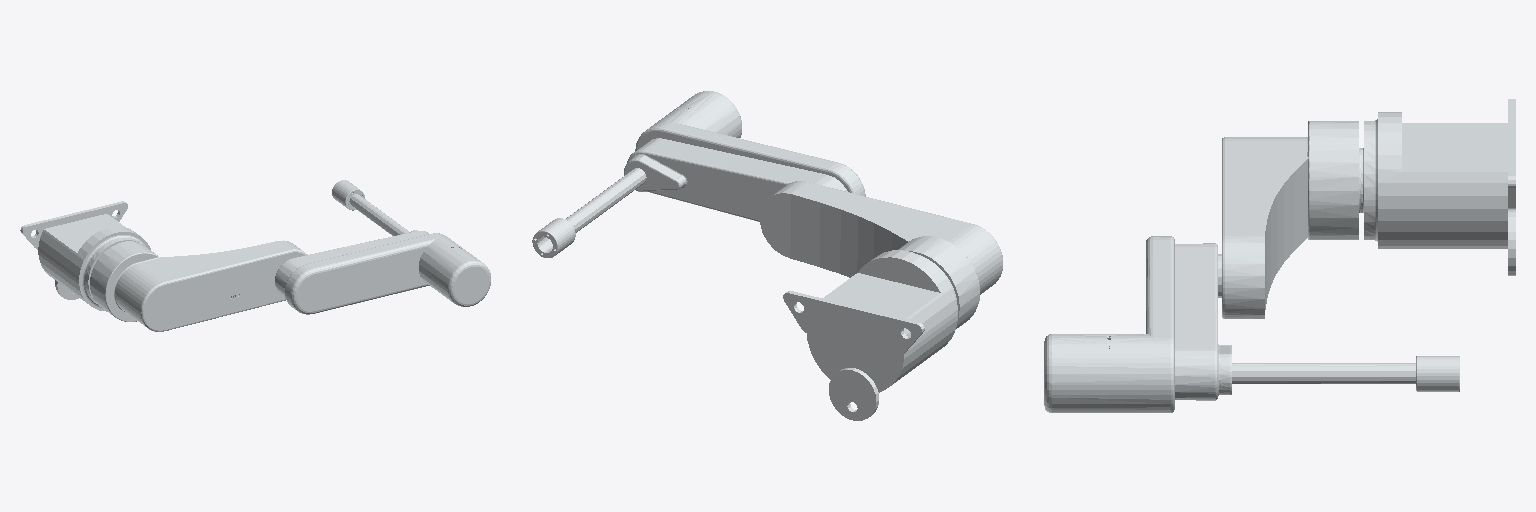
robot.urdf — scara:
<?xml version="1.0" encoding="utf-8"?>
<!-- This URDF was automatically created by SolidWorks to URDF Exporter! Originally created by [author] ([email redacted]) 
     Commit Version: 1.6.0-4-g7f85cfe  Build Version: 1.6.7995.38578
     For more information, please see http://wiki.ros.org/sw_urdf_exporter -->
<robot
  name="scara">
  <link
    name="base_link">
    <inertial>
      <origin
        xyz="-0.015685 0.061337 0.23402"
        rpy="0 0 0" />
      <mass
        value="13.521" />
      <inertia
        ixx="0.07366"
        ixy="1.7942E-19"
        ixz="-3.8597E-18"
        iyy="0.08182"
        iyz="-0.0035749"
        izz="0.056323" />
    </inertial>
    <visual>
      <origin
        xyz="0 0 0"
        rpy="0 0 0" />
      <geometry>
        <mesh
          filename="package://scara/meshes/base_link.STL" />
      </geometry>
      <material
        name="">
        <color
          rgba="0.89804 0.91765 0.92941 1" />
      </material>
    </visual>
    <collision>
      <origin
        xyz="0 0 0"
        rpy="0 0 0" />
      <geometry>
        <mesh
          filename="package://scara/meshes/base_link.STL" />
      </geometry>
    </collision>
  </link>
  <link
    name="Link1">
    <inertial>
      <origin
        xyz="0.094352 0.0010294 0.32084"
        rpy="0 0 0" />
      <mass
        value="15.936" />
      <inertia
        ixx="0.069528"
        ixy="-0.0021755"
        ixz="-0.059062"
        iyy="0.26893"
        iyz="-0.00064495"
        izz="0.24013" />
    </inertial>
    <visual>
      <origin
        xyz="0 0 0"
        rpy="0 0 0" />
      <geometry>
        <mesh
          filename="package://scara/meshes/Link1.STL" />
      </geometry>
      <material
        name="">
        <color
          rgba="0.89804 0.91765 0.92941 1" />
      </material>
    </visual>
    <collision>
      <origin
        xyz="0 0 0"
        rpy="0 0 0" />
      <geometry>
        <mesh
          filename="package://scara/meshes/Link1.STL" />
      </geometry>
    </collision>
  </link>
  <joint
    name="q1"
    type="revolute">
    <origin
      xyz="-0.015685 -0.13669 0.071833"
      rpy="1.5708 0 0" />
    <parent
      link="base_link" />
    <child
      link="Link1" />
    <axis
      xyz="0 0 -1" />
    <limit
      lower="0"
      upper="0"
      effort="0"
      velocity="0" />
  </joint>
  <link
    name="link2">
    <inertial>
      <origin
        xyz="-0.19696 -0.0034897 0.10314"
        rpy="0 0 0" />
      <mass
        value="13.373" />
      <inertia
        ixx="0.060294"
        ixy="1.5774E-06"
        ixz="0.049853"
        iyy="0.25254"
        iyz="-1.6193E-07"
        izz="0.21224" />
    </inertial>
    <visual>
      <origin
        xyz="0 0 0"
        rpy="0 0 0" />
      <geometry>
        <mesh
          filename="package://scara/meshes/link2.STL" />
      </geometry>
      <material
        name="">
        <color
          rgba="0.89804 0.91765 0.92941 1" />
      </material>
    </visual>
    <collision>
      <origin
        xyz="0 0 0"
        rpy="0 0 0" />
      <geometry>
        <mesh
          filename="package://scara/meshes/link2.STL" />
      </geometry>
    </collision>
  </link>
  <joint
    name="q2"
    type="continuous">
    <origin
      xyz="0.320000000000003 0 0.3815"
      rpy="0 0 -3.14126542474589" />
    <parent
      link="Link1" />
    <child
      link="link2" />
    <axis
      xyz="0 0 1" />
  </joint>
  <link
    name="shaft">
    <inertial>
      <origin
        xyz="0.00409819586236559 -0.00555472571082427 -0.13200694625884"
        rpy="0 0 0" />
      <mass
        value="0.806830721731541" />
      <inertia
        ixx="0.0127278032467474"
        ixy="0"
        ixz="-4.86959948382647E-19"
        iyy="0.0127278032467474"
        iyz="-1.47157379275733E-17"
        izz="0.00015917590160112" />
    </inertial>
    <visual>
      <origin
        xyz="0 0 0"
        rpy="0 0 0" />
      <geometry>
        <mesh
          filename="package://scara/meshes/shaft.STL" />
      </geometry>
      <material
        name="">
        <color
          rgba="0.898039215686275 0.917647058823529 0.929411764705882 1" />
      </material>
    </visual>
    <collision>
      <origin
        xyz="0 0 0"
        rpy="0 0 0" />
      <geometry>
        <mesh
          filename="package://scara/meshes/shaft.STL" />
      </geometry>
    </collision>
  </link>
  <joint
    name="end"
    type="continuous">
    <origin
      xyz="-0.324142630749243 -0.00899685084221317 0"
      rpy="0 0 1.8590523363971" />
    <parent
      link="link2" />
    <child
      link="shaft" />
    <axis
      xyz="0 0 1" />
  </joint>
</robot>

--- Facts derived from the render (not from the file) ---
3 views of the same robot in one strip: view 1: azimuth 30°, elevation 25°; view 2: azimuth 150°, elevation 25°; view 3: azimuth 270°, elevation 25° (orthographic).
Model scara with 4 links and 3 joints (1 revolute, 2 continuous), rooted at base_link, posed all joints at 0.
Links seen in each view (by area): view 1: Link1, link2, base_link, shaft; view 2: base_link, Link1, link2, shaft; view 3: base_link, Link1, link2, shaft.
Boxes of the visible links, x1,y1,x2,y2 form: Link1: (90, 240, 307, 331); link2: (275, 230, 490, 314); base_link: (20, 201, 150, 311); shaft: (285, 180, 490, 313); base_link: (783, 250, 957, 420); Link1: (760, 181, 1002, 328); link2: (624, 91, 865, 221); shaft: (532, 91, 863, 257); base_link: (1363, 99, 1515, 275); Link1: (1220, 121, 1362, 318); link2: (1044, 236, 1231, 412); shaft: (1045, 237, 1459, 412).
Size in the robot's own frame: 0.8296 by 0.6515 by 0.2358 metres.
Meshes: 4 distinct files referenced, 4 mesh visuals loaded (4 binary STL).